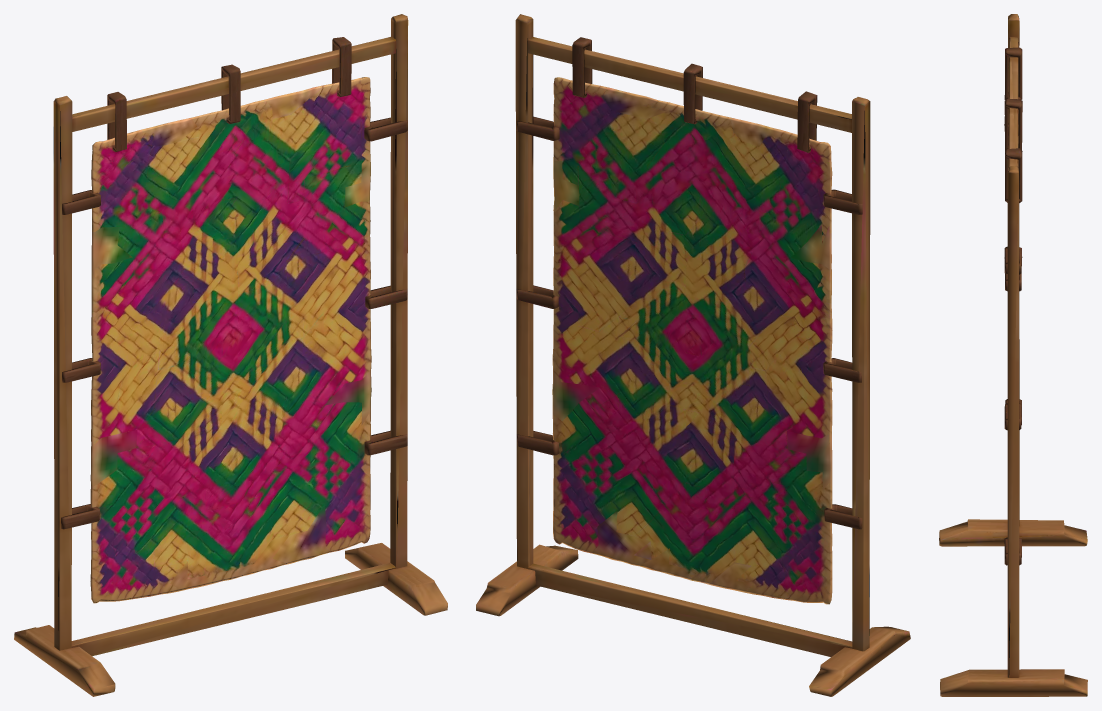
The model's file is banig.glb.
3 views of the same model, side by side, from view 1: azimuth 30°, elevation 25°; view 2: azimuth 150°, elevation 25°; view 3: azimuth 270°, elevation 25° (orthographic). The views are drawn at different scales.
Parts seen in each view (by area): view 1: geometry_0; view 2: geometry_0; view 3: geometry_0.
Boxes of the visible parts, x1=… form: geometry_0: x1=14, y1=14, x2=447, y2=696; geometry_0: x1=476, y1=14, x2=910, y2=696; geometry_0: x1=939, y1=14, x2=1087, y2=696.
Size of the model in its own units: 0.6611 by 1 by 0.2572.
1 material, 1 textured.
